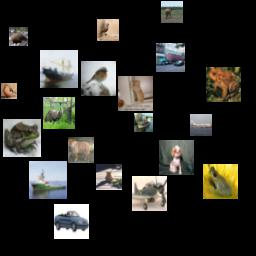airplane: (132, 176, 167, 211), (190, 114, 212, 136)
automobile: (54, 204, 89, 239)
bird: (81, 61, 116, 96), (43, 97, 75, 129), (97, 19, 119, 41), (9, 27, 28, 46), (1, 83, 17, 99)
cat: (118, 76, 153, 111), (96, 164, 122, 190)
deer: (161, 1, 183, 23)
dog: (159, 140, 194, 175), (68, 137, 94, 163)
frog: (3, 119, 41, 157), (206, 67, 241, 102), (203, 164, 238, 199)
ship: (40, 50, 78, 88), (29, 161, 67, 199), (134, 113, 153, 132)
truck: (156, 43, 185, 72)
